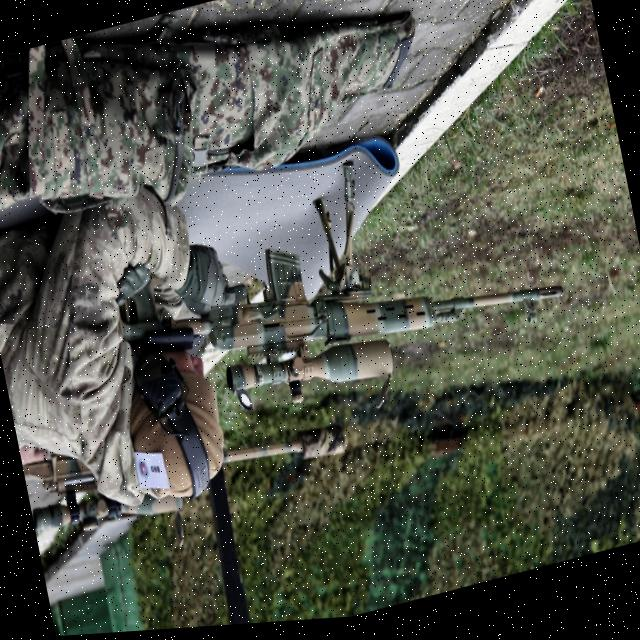firearm: (102, 119, 580, 477), (22, 384, 350, 548)
